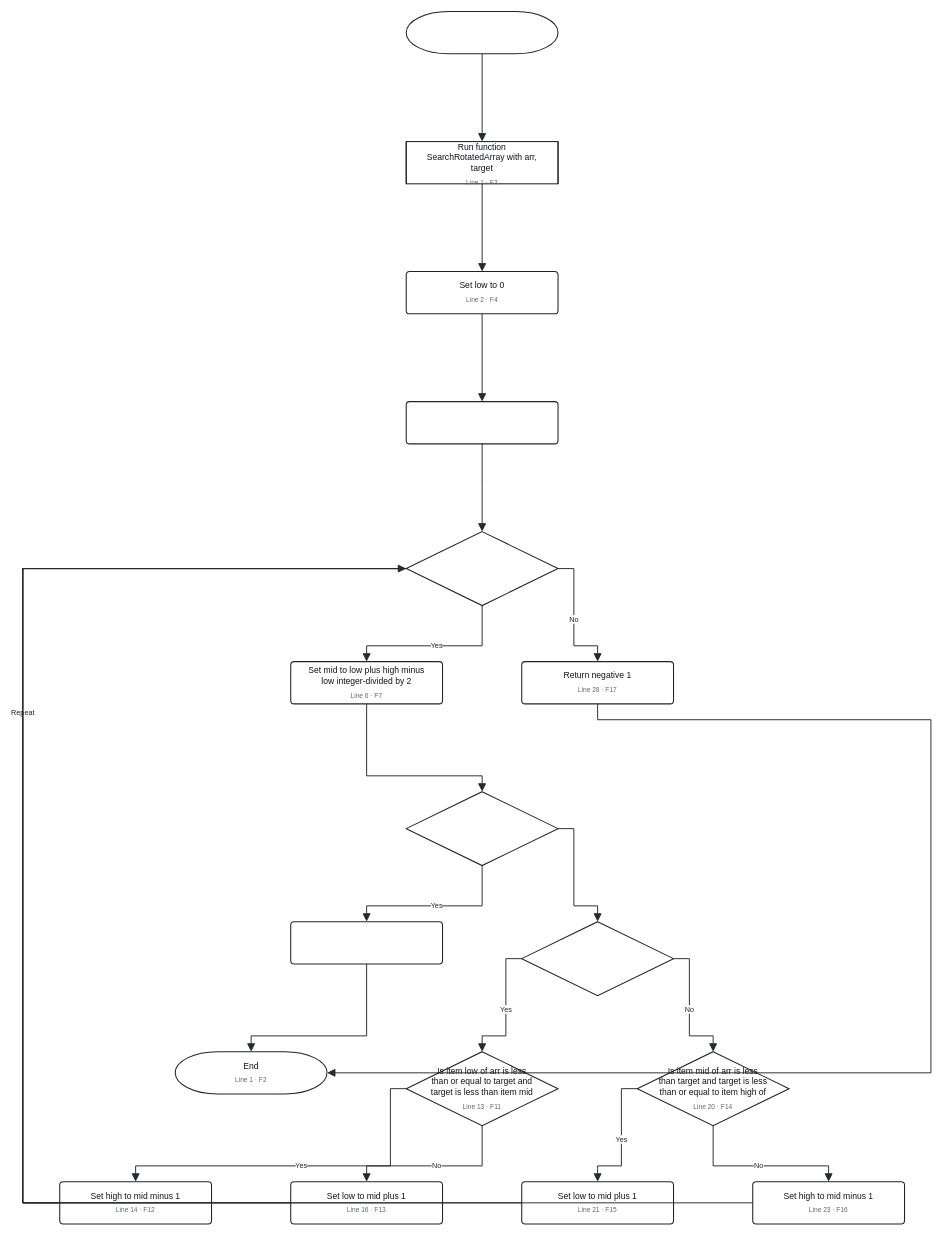
This 950x1236 diagram has some shape labels left out. The centre of each missing label's shape, as x and y in pixels:
Item low of arr is less than or equal to item mid of arr? Line 12 · F10: the point at 597,958
Item mid of arr is equal to target? Line 7 · F8: the point at 481,828
Low is less than or equal to high? Line 5 · F6: the point at 481,568
Return mid Line 8 · F9: the point at 366,942
Set high to the length of arr minus 1 Line 3 · F5: the point at 481,422
Start Line 1 · F1: the point at 481,32
